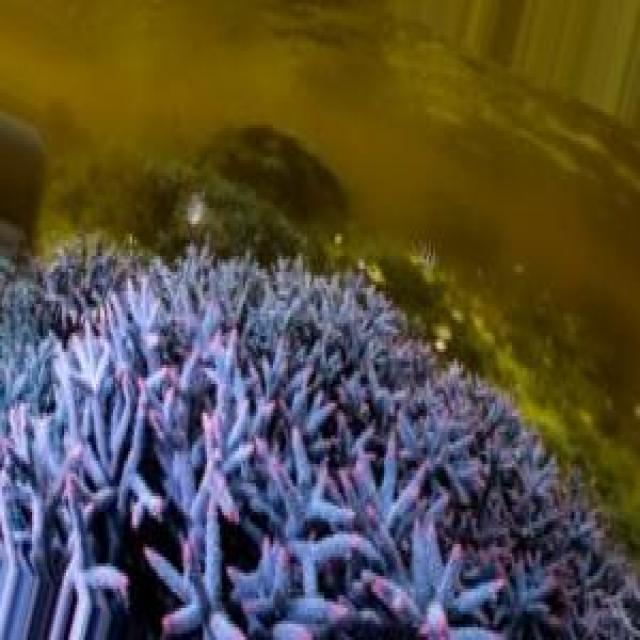Healthy: (1, 215, 640, 640)
